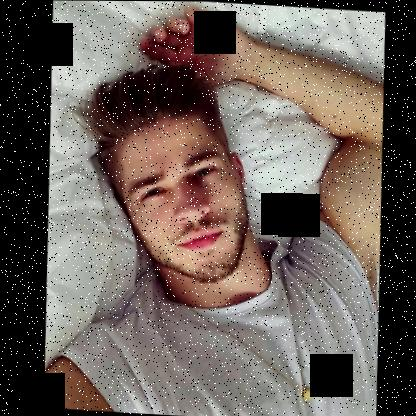Male: (108, 109, 255, 282)
